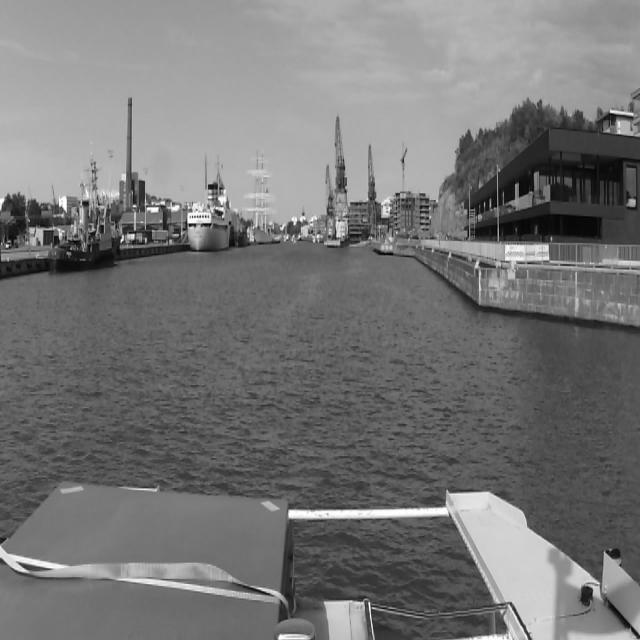ship: (46, 165, 118, 275), (242, 146, 276, 245), (186, 180, 232, 253), (232, 214, 248, 252)
